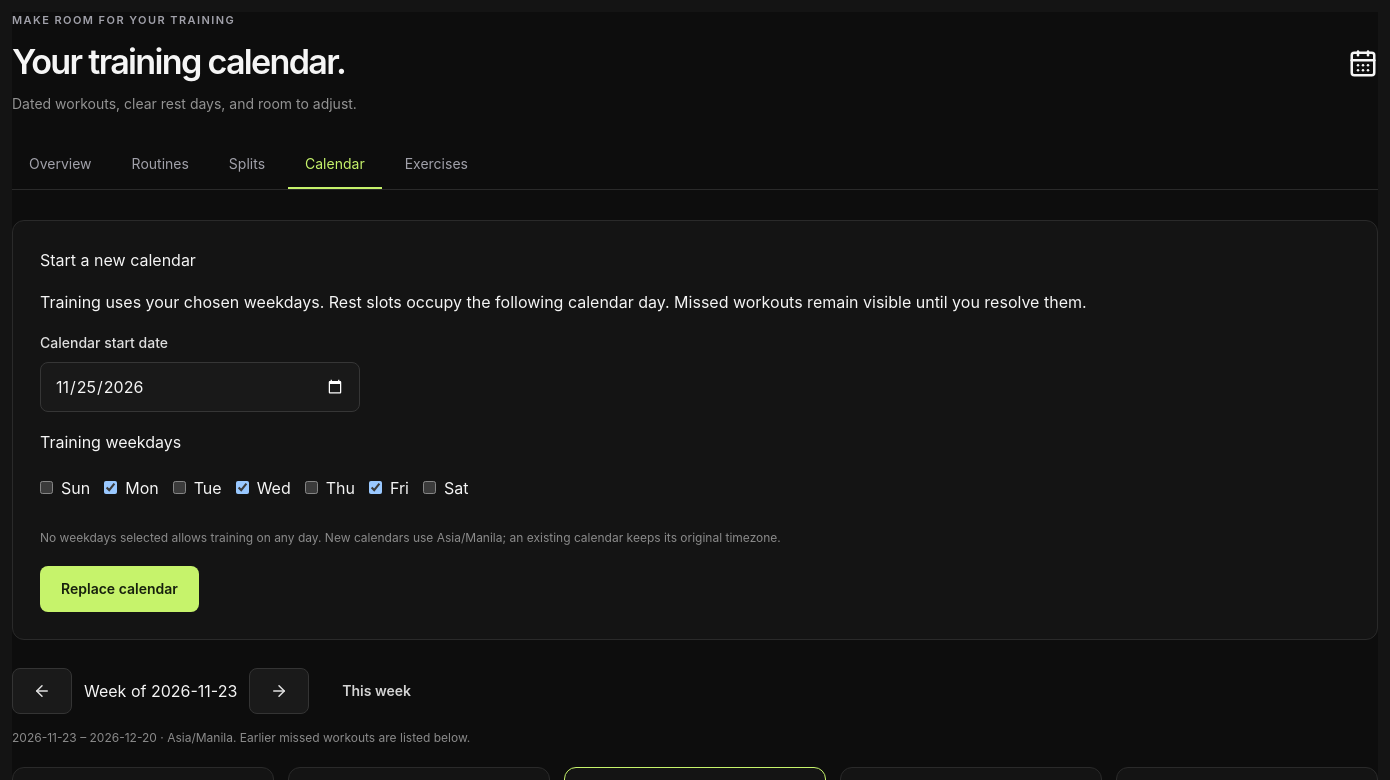
Test case: Fixed calendar › shows today, the full week, missed training, and past rest without marking rest overdue
Click the button named "Next week" at point(279, 691), box [249,668,309,714]
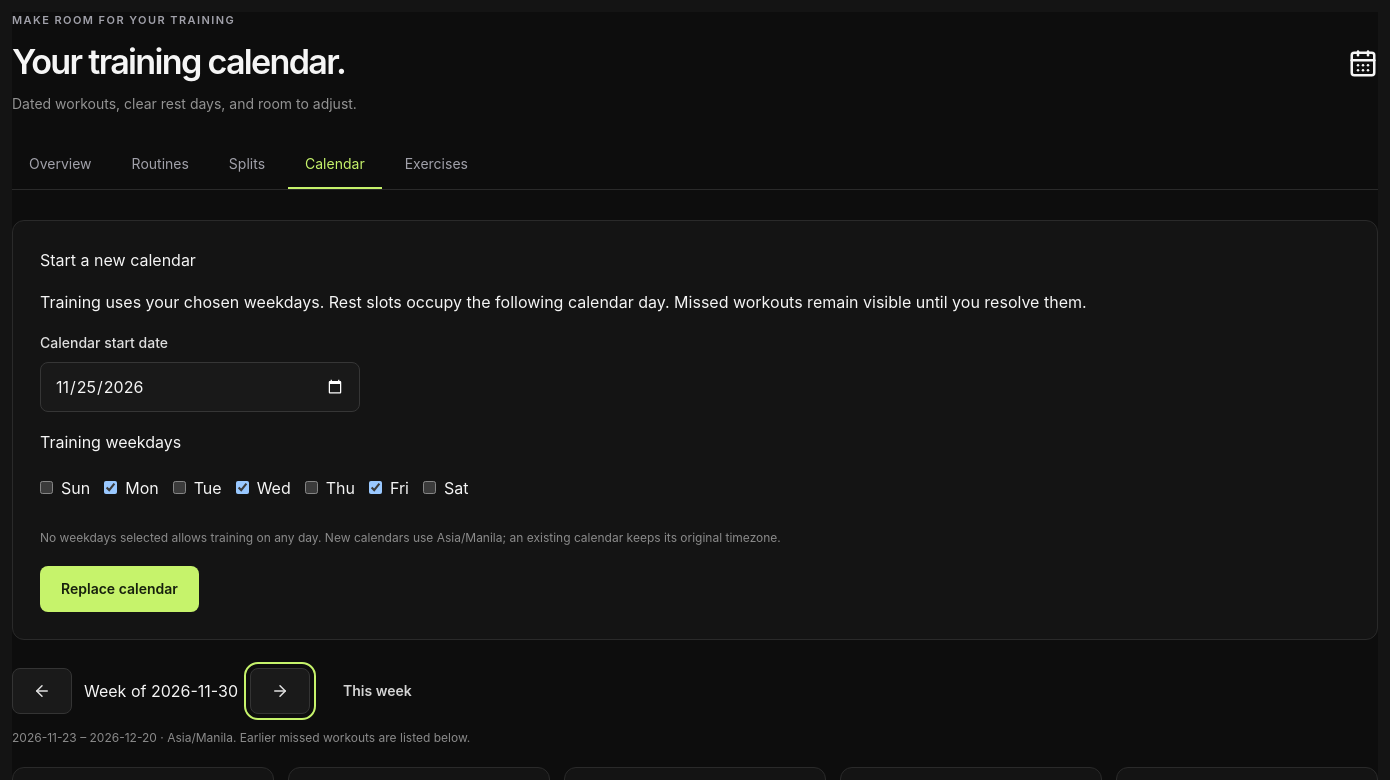
Now the heading "Week of 2026-11-30" is shown, box [84,679,238,703]
Click the button named "Previous week" at point(42, 691), box [12,668,72,714]
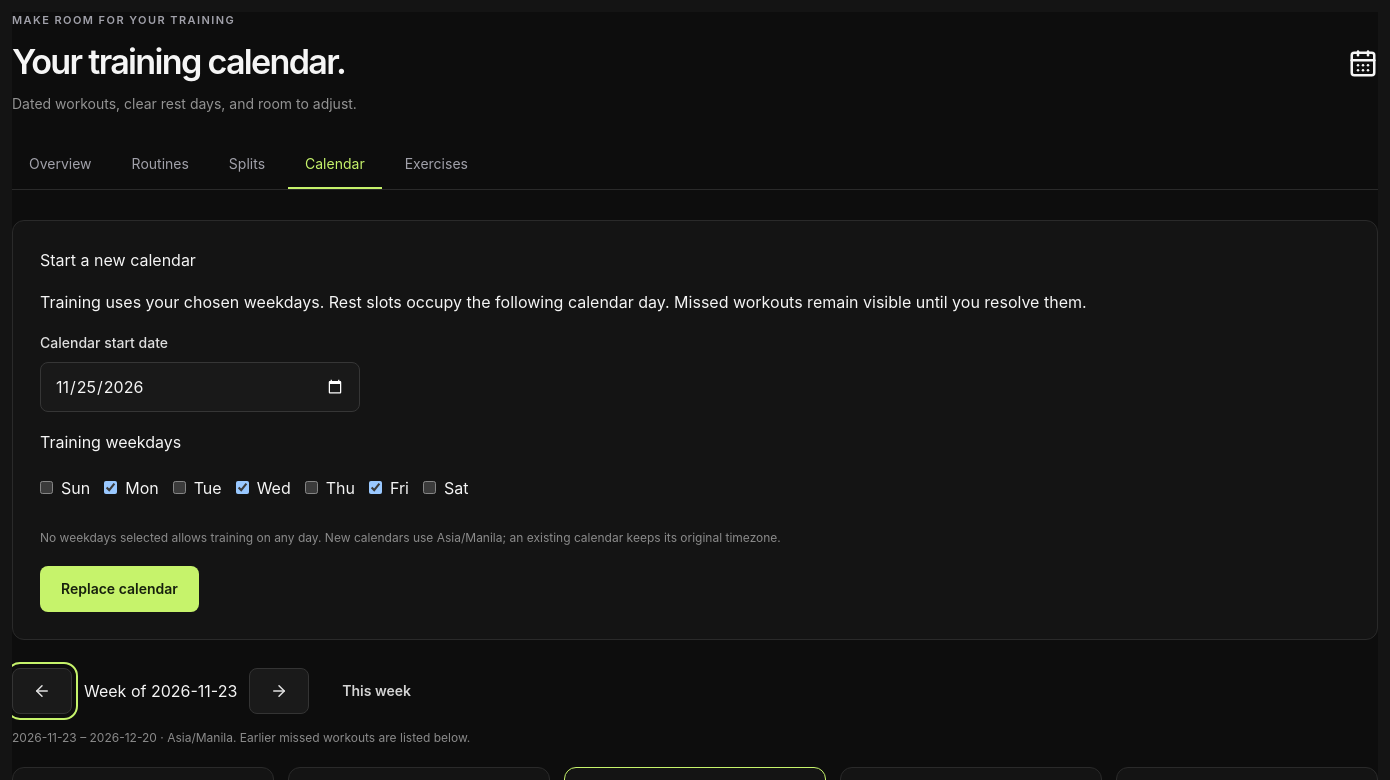
Now the heading "Week of 2026-11-23" is shown, box [84,679,237,703]
